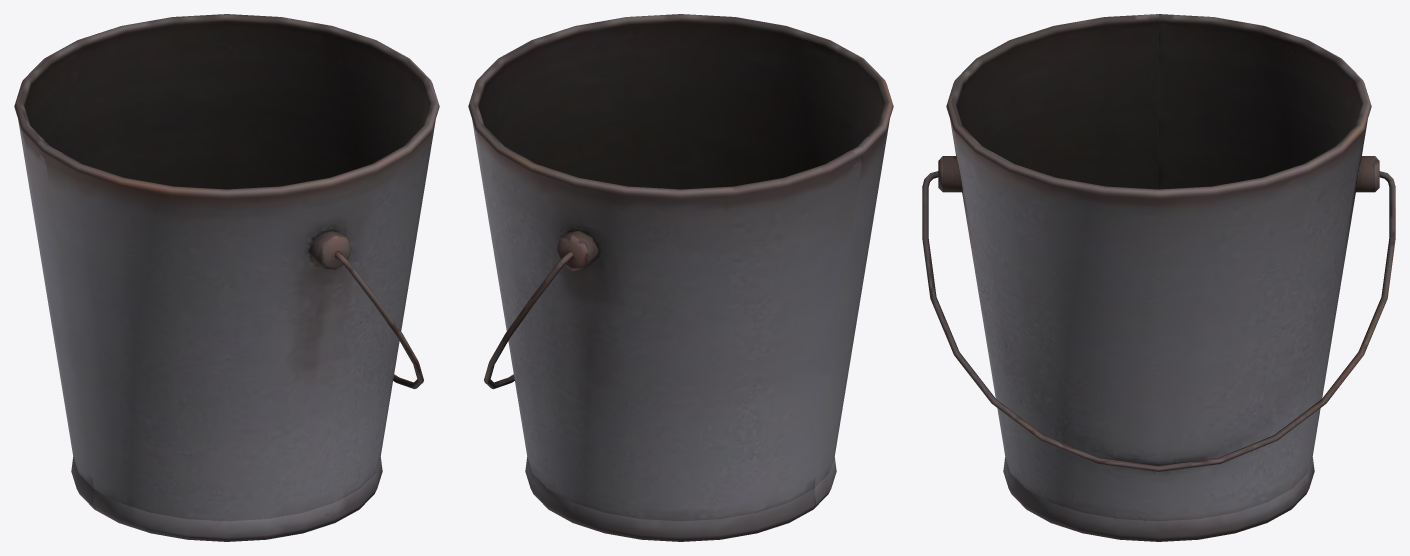
3 views of the same model, side by side, from view 1: azimuth 30°, elevation 25°; view 2: azimuth 150°, elevation 25°; view 3: azimuth 270°, elevation 25° (orthographic).
Visible parts, largest first — view 1: body0_model0_lod0_mesh0; view 2: body0_model0_lod0_mesh0; view 3: body0_model0_lod0_mesh0.
Boxes of the visible parts, x1=… form: body0_model0_lod0_mesh0: x1=14, y1=14, x2=439, y2=541; body0_model0_lod0_mesh0: x1=468, y1=14, x2=893, y2=541; body0_model0_lod0_mesh0: x1=922, y1=14, x2=1395, y2=541.
Bounding box in the file's own units: 24.6 × 24.11 × 27.37.
1 material, 1 textured.
